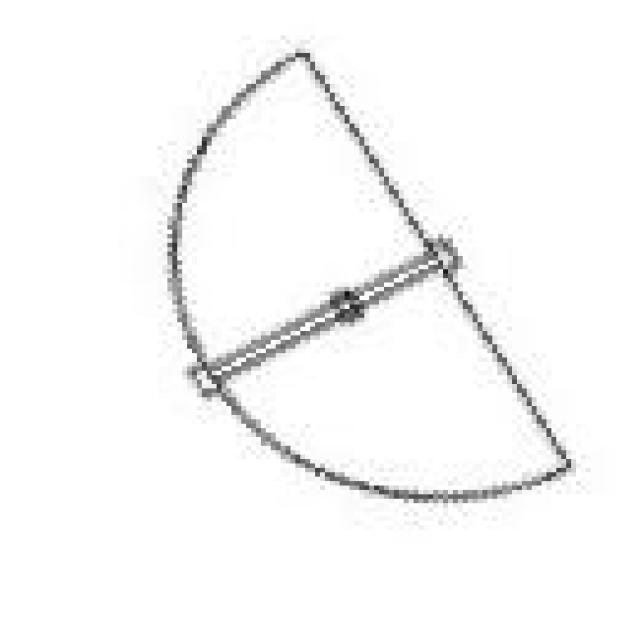door: (163, 49, 566, 498)
